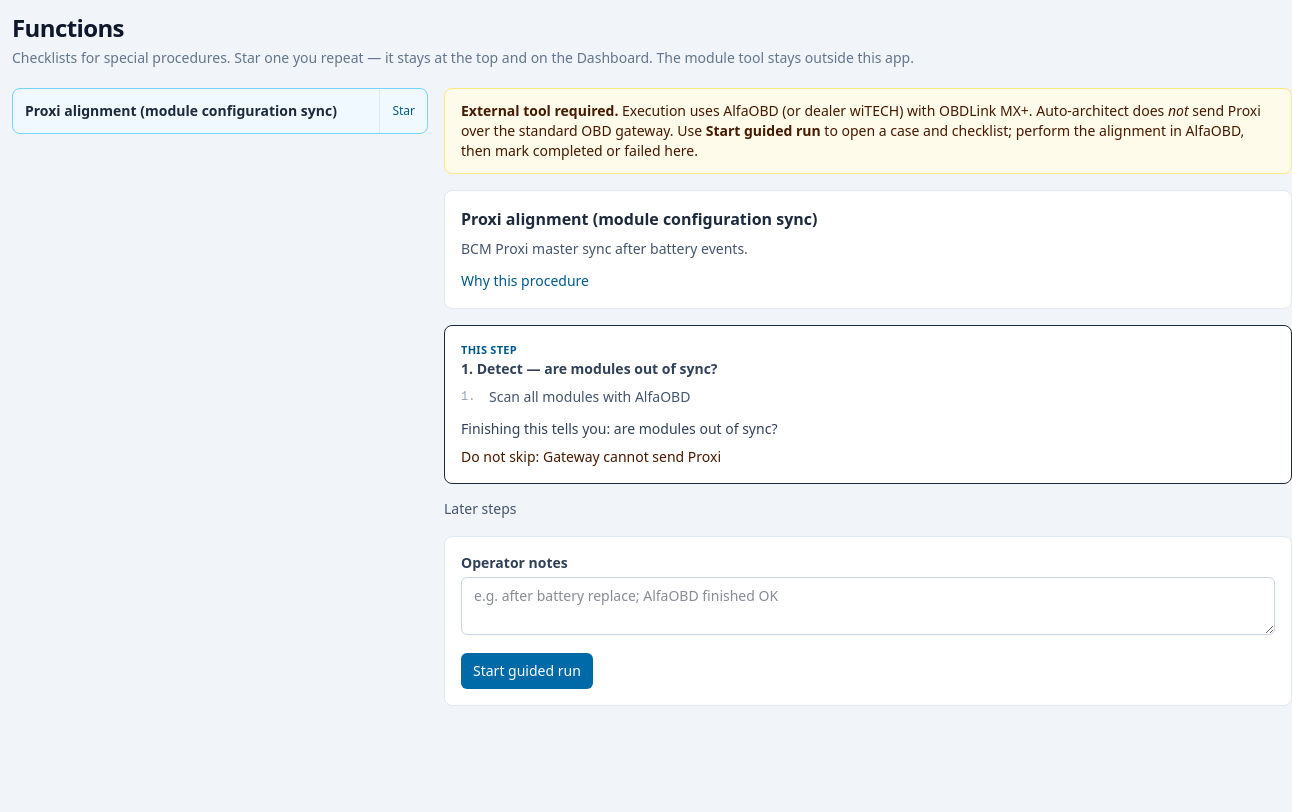
Test: Functions › starts a guided run and enables complete actions
Click the button "Start guided run": click(527, 670) [461,652,593,688]
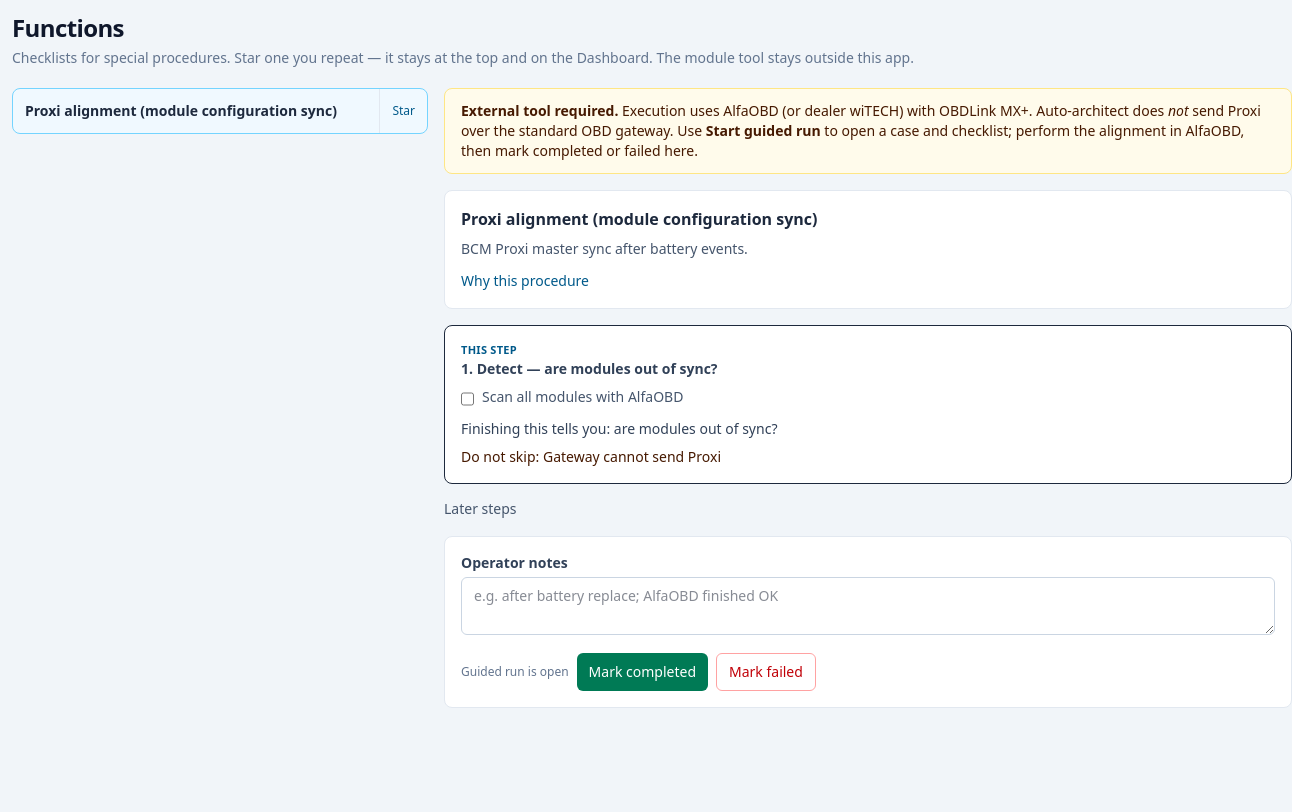
Check: the text "Guided run is open" is shown, box [461,664,569,680]
Check: the button "Mark completed" is shown, box [577,652,708,690]
